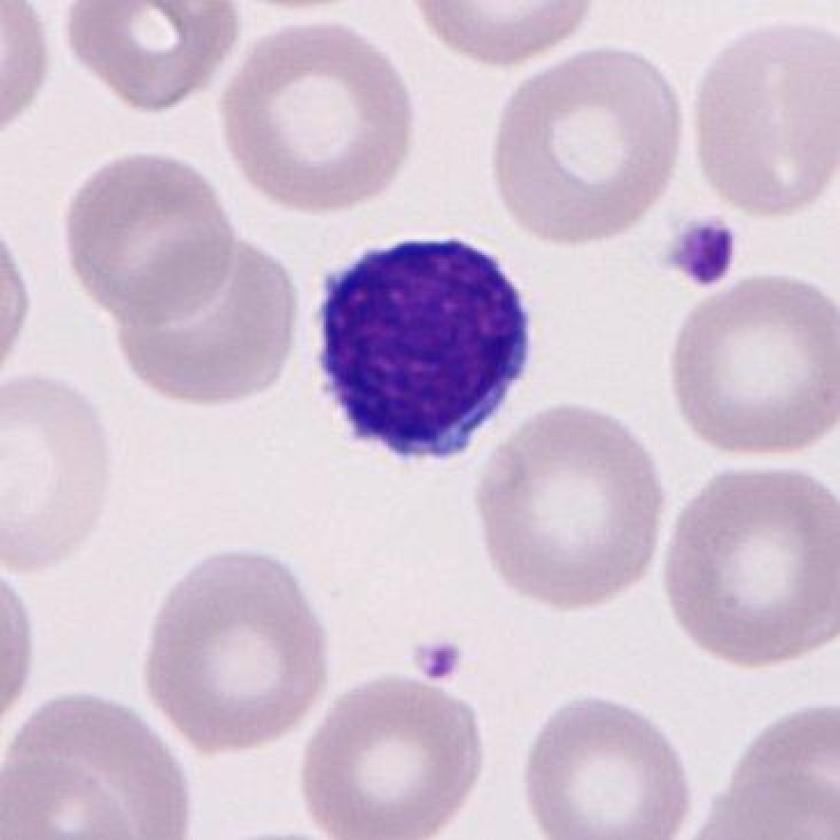lymphocyte: (302, 222, 547, 479)
